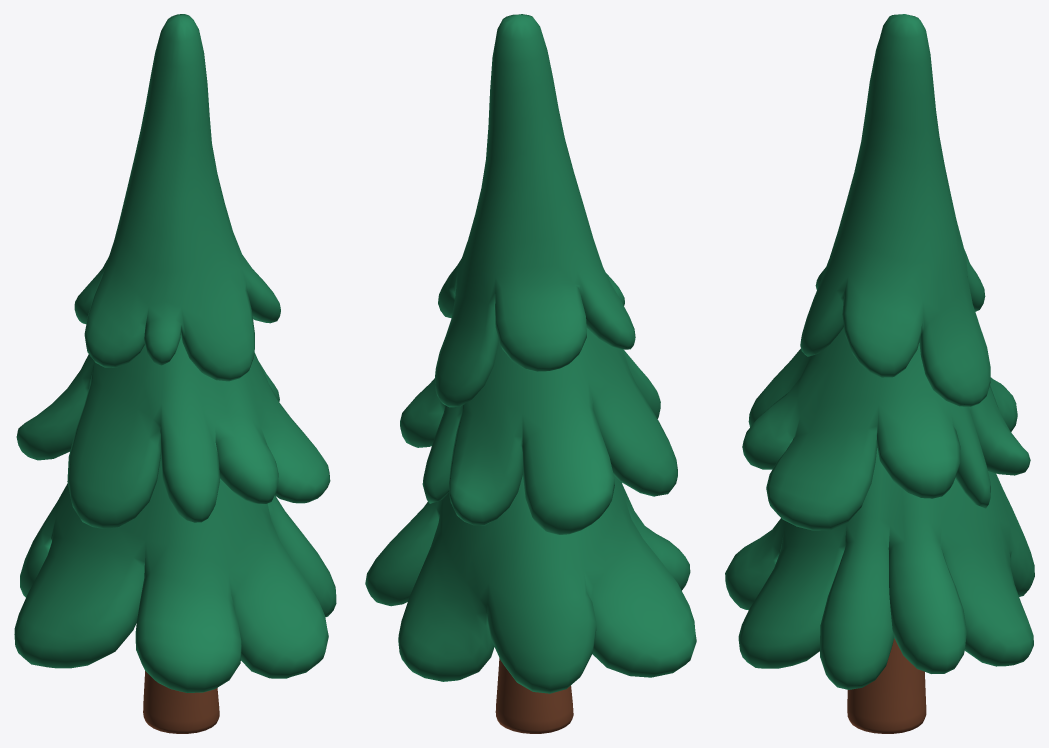
The model's file is Pine_03.fbx.
3 renders of one model, left to right at view 1: azimuth 30°, elevation 25°; view 2: azimuth 150°, elevation 25°; view 3: azimuth 270°, elevation 25°, orthographic.
Parts seen in each view (by area): view 1: Pine_03_LOD0; view 2: Pine_03_LOD0; view 3: Pine_03_LOD0.
Boxes of the visible parts, bbox=[...] form: Pine_03_LOD0: bbox=[14, 14, 336, 733]; Pine_03_LOD0: bbox=[365, 14, 696, 733]; Pine_03_LOD0: bbox=[725, 14, 1034, 733].
Size of what is drawn, in the model's own units: 504 by 1141 by 451.
